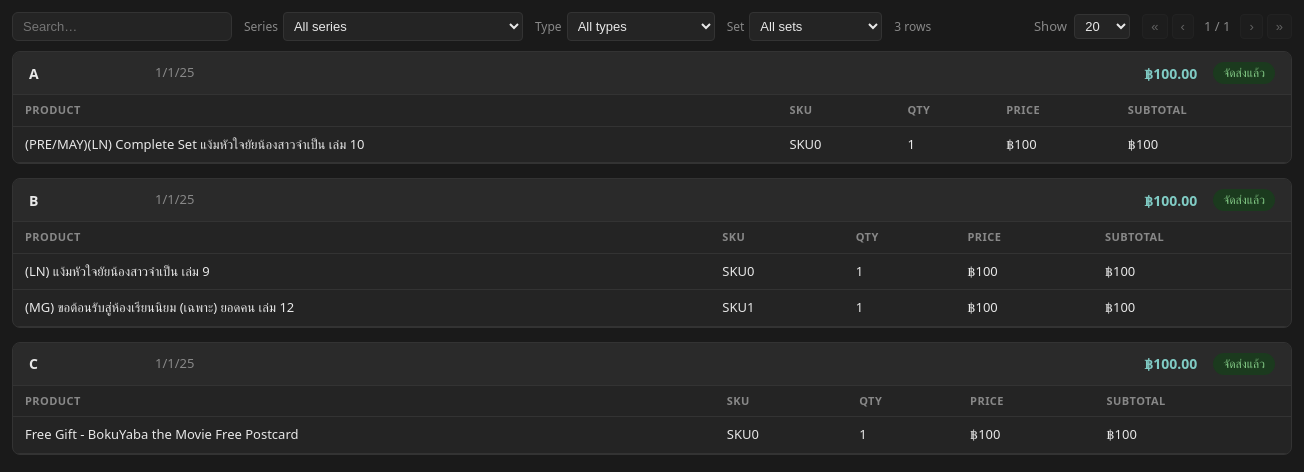
Scenario: order-details facet filters › reports no results when a combination matches nothing
Select "Manga (1)" in the dropdown labelled "Type" at point(641, 26), box x1=567 y1=12 x2=715 y2=41
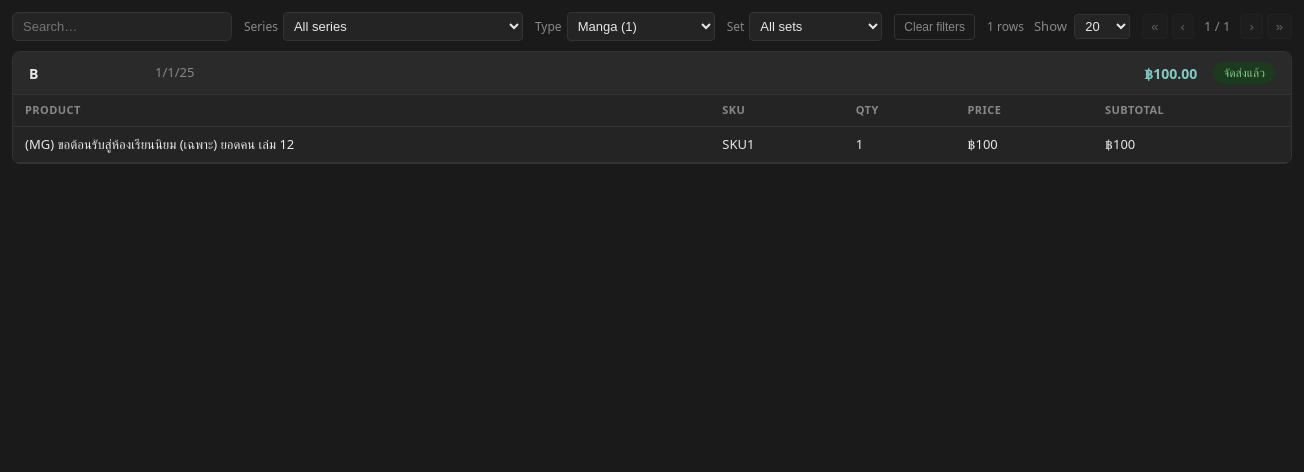
Select "Complete Set (1)" in the dropdown labelled "Set" at point(816, 26), box x1=749 y1=12 x2=882 y2=41
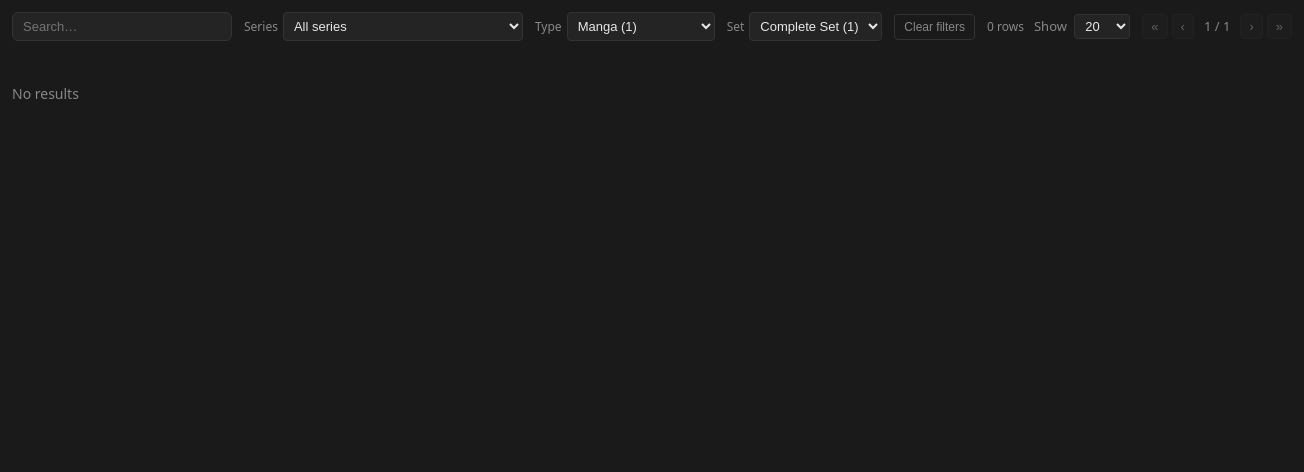
Now the text "No results" is shown, box x1=12 y1=84 x2=79 y2=103
